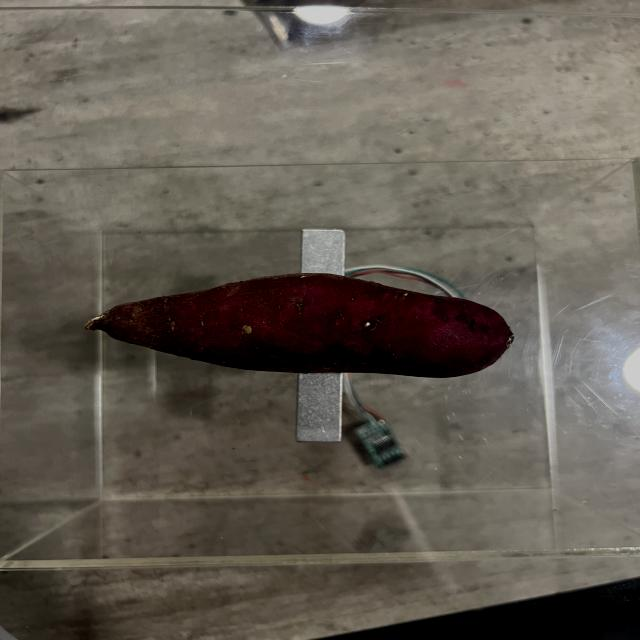sweet potato: (94, 272, 514, 382)
